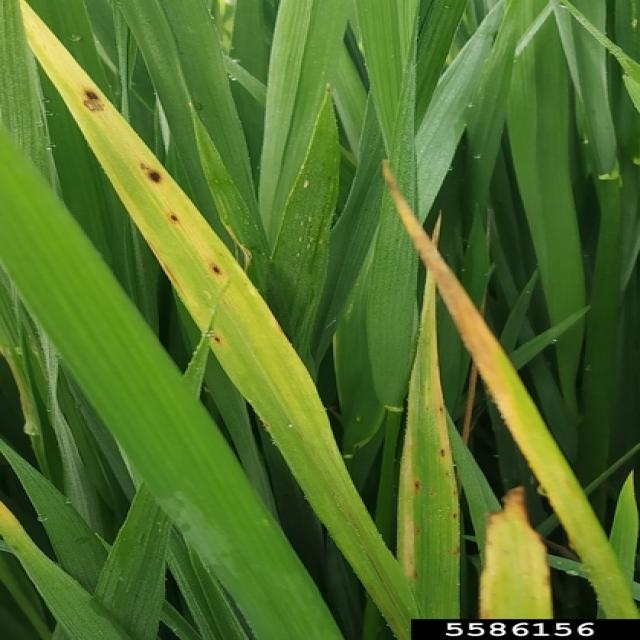Brown spot: (66, 82, 133, 115), (132, 154, 166, 190), (193, 259, 246, 281), (156, 205, 186, 230), (204, 334, 238, 345), (430, 446, 448, 458), (407, 477, 422, 491), (450, 547, 465, 558), (411, 571, 423, 580), (447, 488, 458, 497), (448, 513, 458, 522), (414, 527, 422, 538), (438, 405, 444, 414), (444, 469, 449, 477), (427, 492, 435, 497)
